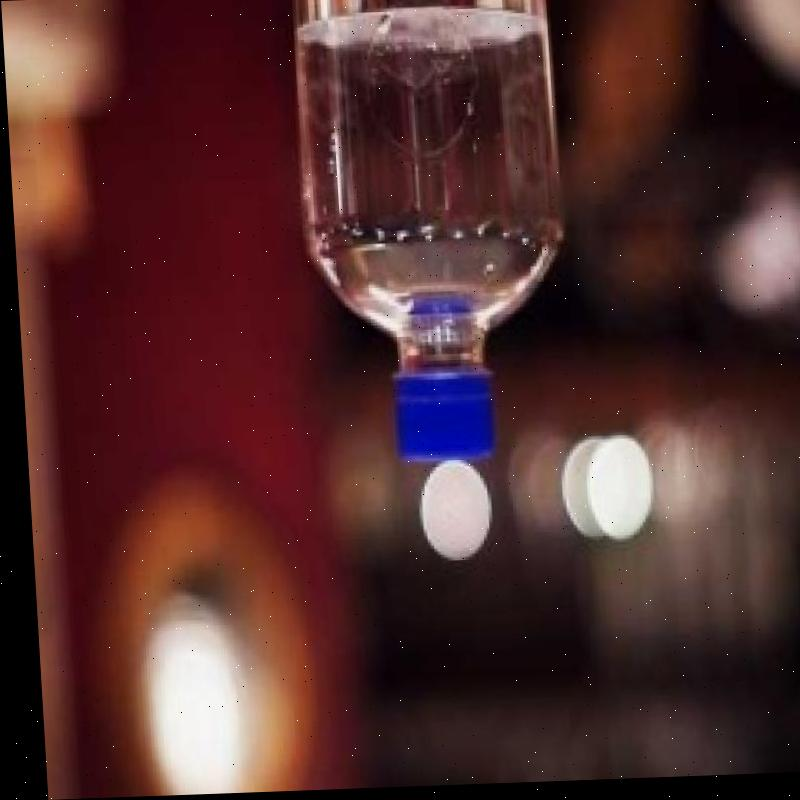botella: (288, 0, 569, 471)
